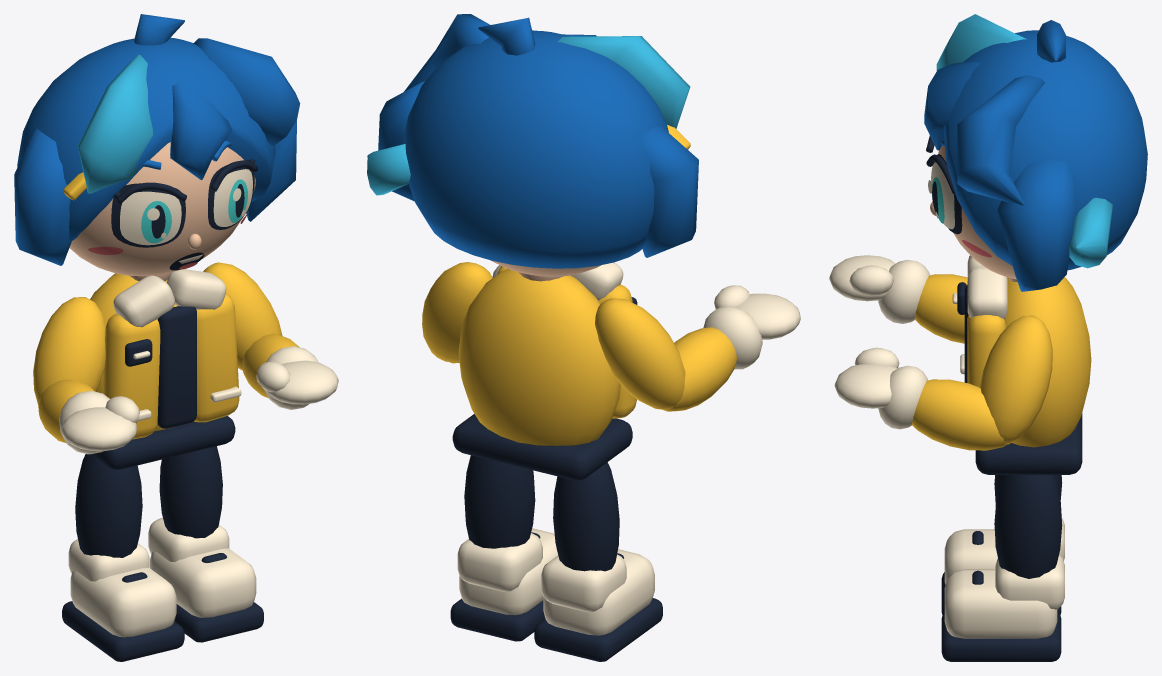
Rendered from clerk.glb.
3 views of the same model, side by side, from view 1: azimuth 30°, elevation 25°; view 2: azimuth 150°, elevation 25°; view 3: azimuth 270°, elevation 25° (orthographic). The views are drawn at different scales.
Parts seen in each view (by area): view 1: clerk_Head_Volume, clerk_Body_Volume, clerk_LeftLeg_Volume, clerk_RightLeg_Volume, clerk_LeftArm_Volume, clerk_RightArm_Volume; view 2: clerk_Head_Volume, clerk_Body_Volume, clerk_LeftLeg_Volume, clerk_LeftArm_Volume, clerk_RightLeg_Volume, clerk_RightArm_Volume; view 3: clerk_Head_Volume, clerk_RightLeg_Volume, clerk_RightArm_Volume, clerk_Body_Volume, clerk_LeftArm_Volume, clerk_LeftLeg_Volume.
Part boxes in pixels (box(x1,y1,x2,y2)): clerk_Head_Volume: box(14, 14, 300, 281); clerk_Body_Volume: box(90, 269, 241, 469); clerk_LeftLeg_Volume: box(62, 454, 184, 661); clerk_RightLeg_Volume: box(148, 446, 263, 642); clerk_LeftArm_Volume: box(33, 297, 139, 454); clerk_RightArm_Volume: box(203, 262, 338, 409); clerk_Head_Volume: box(367, 14, 698, 281); clerk_Body_Volume: box(452, 262, 637, 480); clerk_LeftLeg_Volume: box(534, 462, 662, 661); clerk_LeftArm_Volume: box(595, 285, 800, 411); clerk_RightLeg_Volume: box(450, 455, 557, 641); clerk_RightArm_Volume: box(422, 262, 500, 363); clerk_Head_Volume: box(924, 14, 1147, 291); clerk_RightLeg_Volume: box(941, 475, 1064, 661); clerk_RightArm_Volume: box(834, 315, 1052, 450); clerk_Body_Volume: box(952, 255, 1091, 474); clerk_LeftArm_Volume: box(829, 255, 967, 343); clerk_LeftLeg_Volume: box(941, 475, 1064, 614).
Size of the model in its own units: 1.32 by 2.4 by 1.14.
